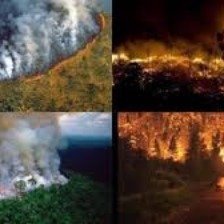incendio: (1, 1, 106, 62), (122, 116, 224, 167), (101, 47, 223, 85), (1, 146, 71, 187)
